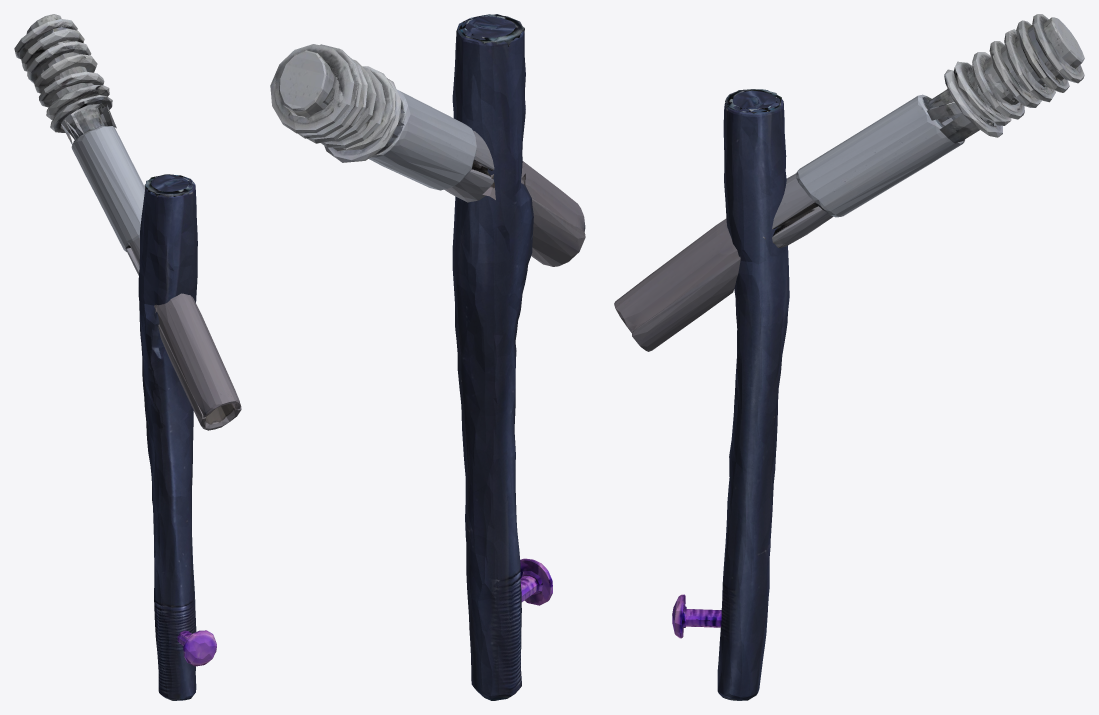
3 views of the same model, side by side, from view 1: azimuth 30°, elevation 25°; view 2: azimuth 150°, elevation 25°; view 3: azimuth 270°, elevation 25° (orthographic). The views are drawn at different scales.
Visible parts, largest first — view 1: tripo_part_5, tripo_part_0 (×2), tripo_part_9, tripo_part_11, tripo_part_1, tripo_part_16, tripo_part_13, tripo_part_17, tripo_part_12, tripo_part_10, tripo_part_14, tripo_part_15 (+1 smaller); view 2: tripo_part_5, tripo_part_9, tripo_part_0 (×2), tripo_part_14, tripo_part_19, tripo_part_1, tripo_part_8, tripo_part_11, tripo_part_10, tripo_part_12, tripo_part_17, tripo_part_16 (+2 smaller); view 3: tripo_part_5, tripo_part_9, tripo_part_0 (×2), tripo_part_1, tripo_part_11, tripo_part_8, tripo_part_19, tripo_part_12, tripo_part_16, tripo_part_14, tripo_part_17, tripo_part_13 (+2 smaller).
Part boxes in pixels (box(x1,y1,x2,y2)): tripo_part_5: box(138, 174, 197, 700); tripo_part_0 (×2): box(154, 293, 240, 666); tripo_part_9: box(66, 107, 144, 251); tripo_part_11: box(46, 77, 116, 144); tripo_part_1: box(155, 303, 241, 430); tripo_part_16: box(27, 41, 91, 83); tripo_part_13: box(34, 54, 97, 93); tripo_part_17: box(21, 28, 84, 71); tripo_part_12: box(39, 71, 104, 107); tripo_part_10: box(50, 95, 112, 132); tripo_part_14: box(14, 19, 77, 59); tripo_part_15: box(32, 27, 87, 85); tripo_part_5: box(452, 15, 533, 700); tripo_part_9: box(369, 89, 476, 190); tripo_part_0 (×2): box(482, 161, 585, 605); tripo_part_14: box(270, 44, 354, 133); tripo_part_19: box(279, 50, 334, 117); tripo_part_1: box(491, 173, 585, 266); tripo_part_8: box(444, 130, 494, 202); tripo_part_11: box(333, 66, 404, 151); tripo_part_10: box(324, 78, 401, 162); tripo_part_12: box(321, 66, 385, 148); tripo_part_17: box(297, 44, 361, 138); tripo_part_16: box(306, 54, 367, 143); tripo_part_5: box(717, 90, 789, 700); tripo_part_9: box(796, 89, 965, 217); tripo_part_0 (×2): box(614, 219, 784, 638); tripo_part_1: box(632, 256, 740, 351); tripo_part_11: box(927, 61, 1018, 143); tripo_part_8: box(763, 173, 833, 247); tripo_part_19: box(1044, 17, 1084, 80); tripo_part_12: box(972, 52, 1024, 119); tripo_part_16: box(1004, 29, 1055, 102); tripo_part_14: box(1032, 14, 1084, 83); tripo_part_17: box(1016, 20, 1069, 92); tripo_part_13: box(989, 41, 1041, 107).
Size of the model in its own units: 0.1244 by 1.07 by 0.6723.
19 materials, 19 textured.
